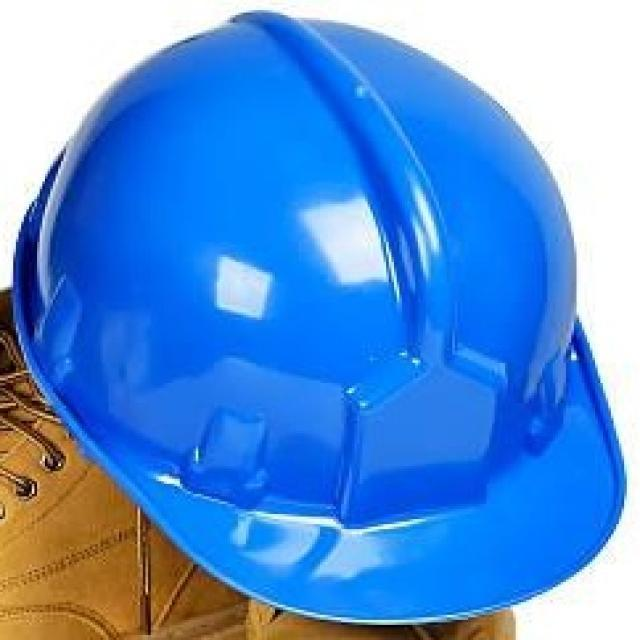helmet: (14, 12, 625, 623)
